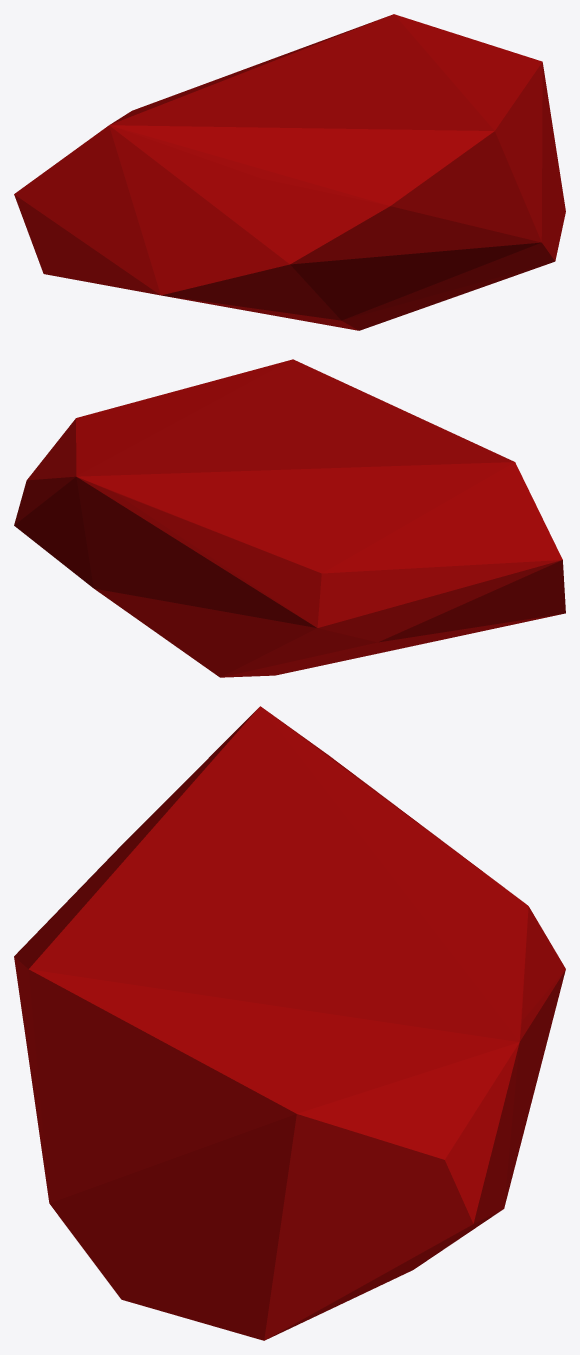
File: rock_b.glb
3 renders of one model, top to bottom at view 1: azimuth 30°, elevation 25°; view 2: azimuth 150°, elevation 25°; view 3: azimuth 270°, elevation 25°, orthographic. The views are drawn at different scales.
Parts seen in each view (by area): view 1: rock_b; view 2: rock_b; view 3: rock_b.
Part boxes in pixels (x1,y1,x2,y2): rock_b: [14, 14, 565, 330]; rock_b: [14, 359, 565, 677]; rock_b: [14, 706, 565, 1340].
Bounding box in the file's own units: 2.65 × 1.27 × 1.59.
